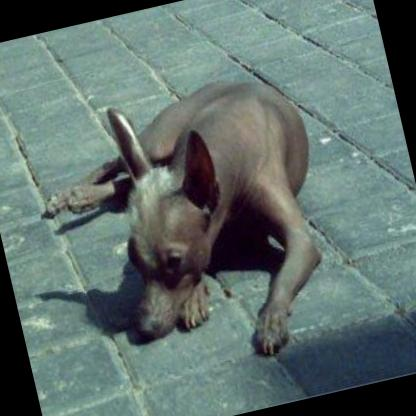Mexican_hairless: (20, 56, 358, 401)
